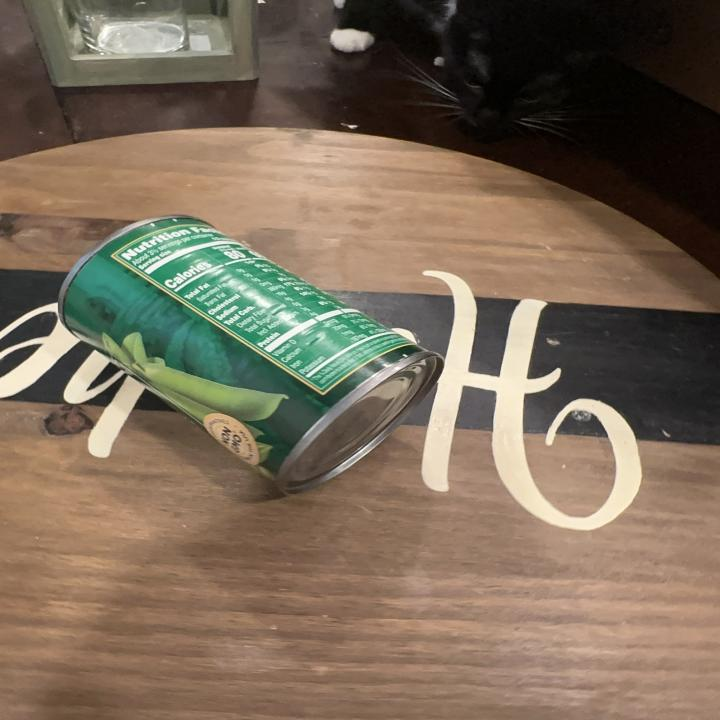Canned-Peas: (56, 207, 445, 499)
